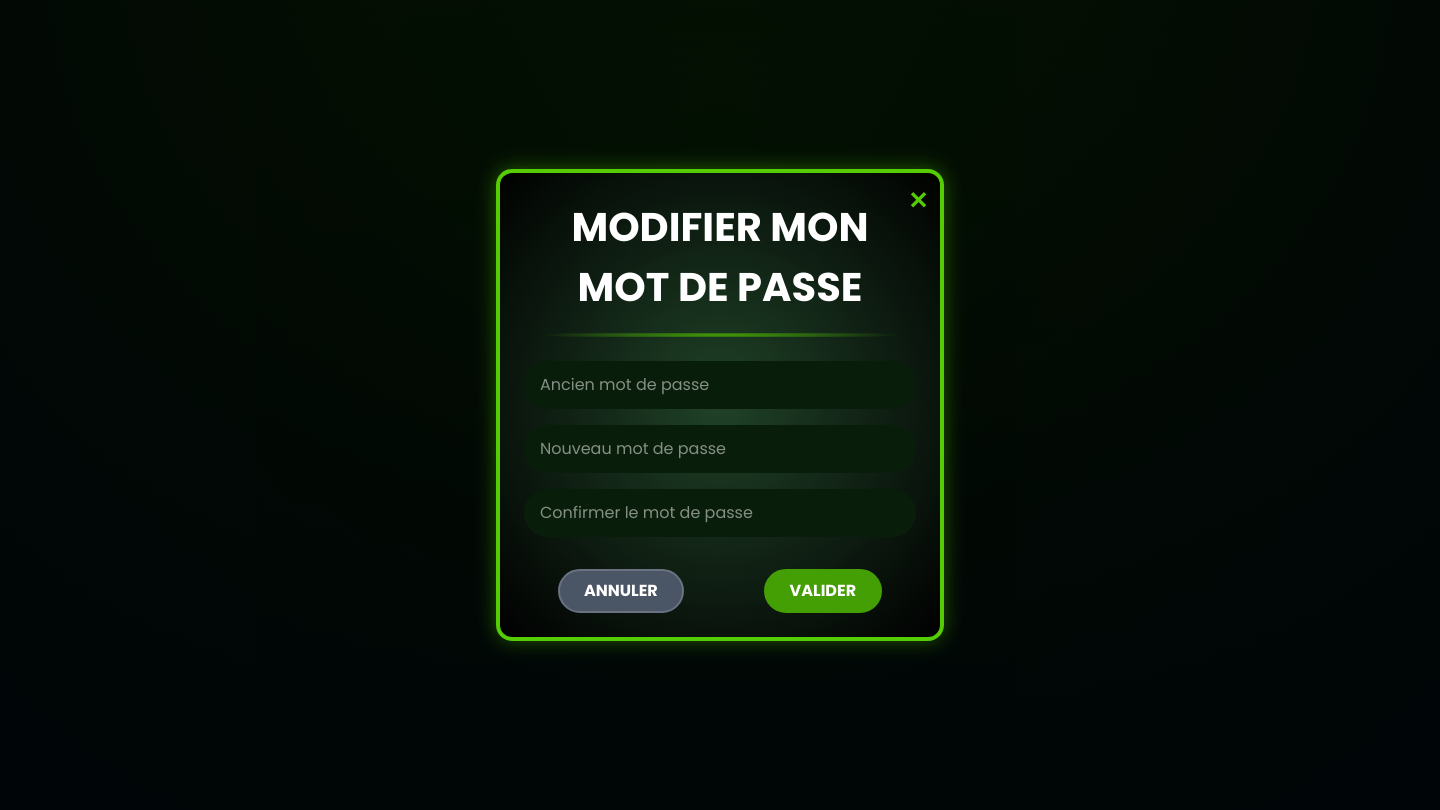
Test: ChangePasswordModal › shows an error when passwords do not match
Fill fields with mismatched passwords
In the password field with placeholder "Ancien mot de passe": (720, 385) [524,361,916,409], type "oldpass"
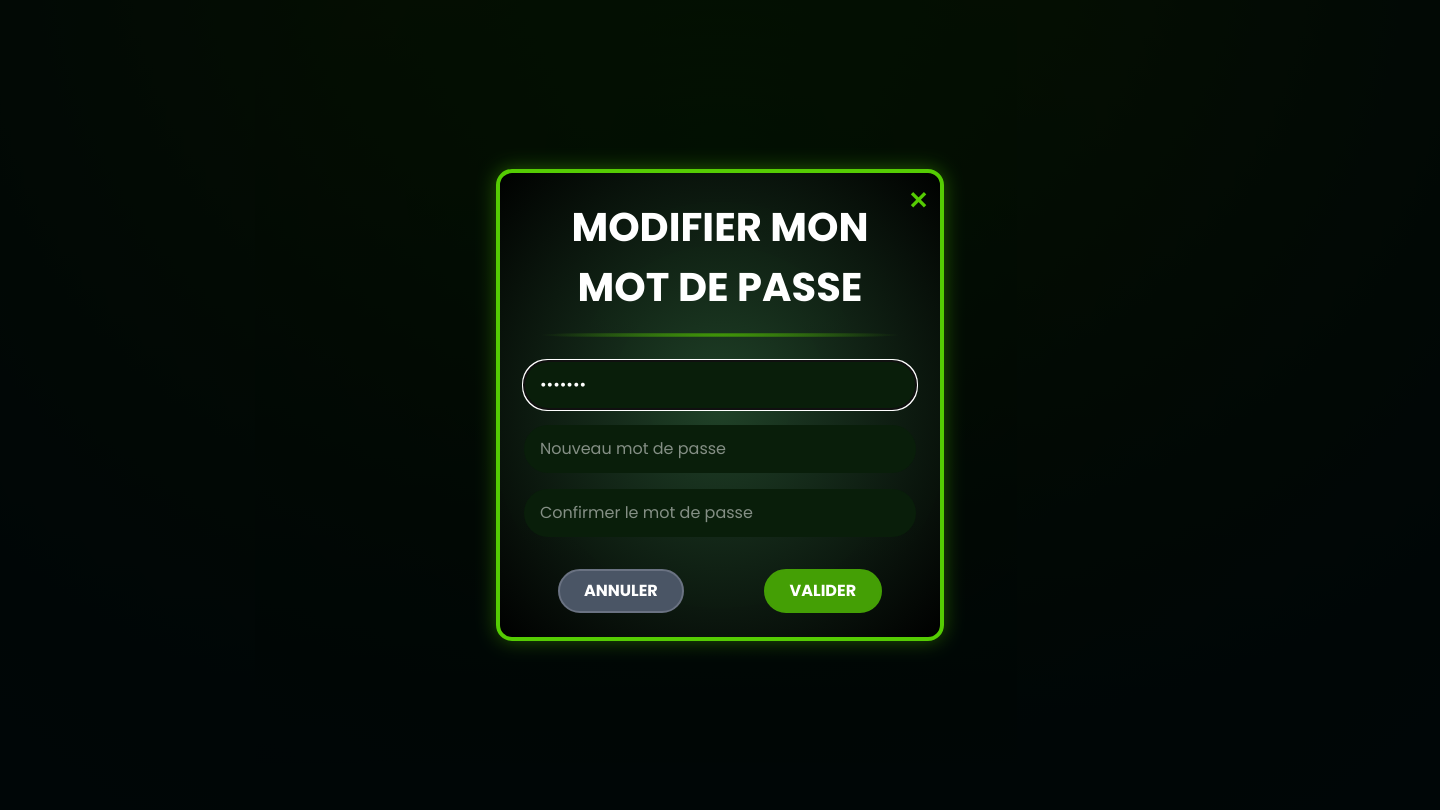
In the password field with placeholder "Nouveau mot de passe": (720, 449) [524,425,916,473], type "newpass1"
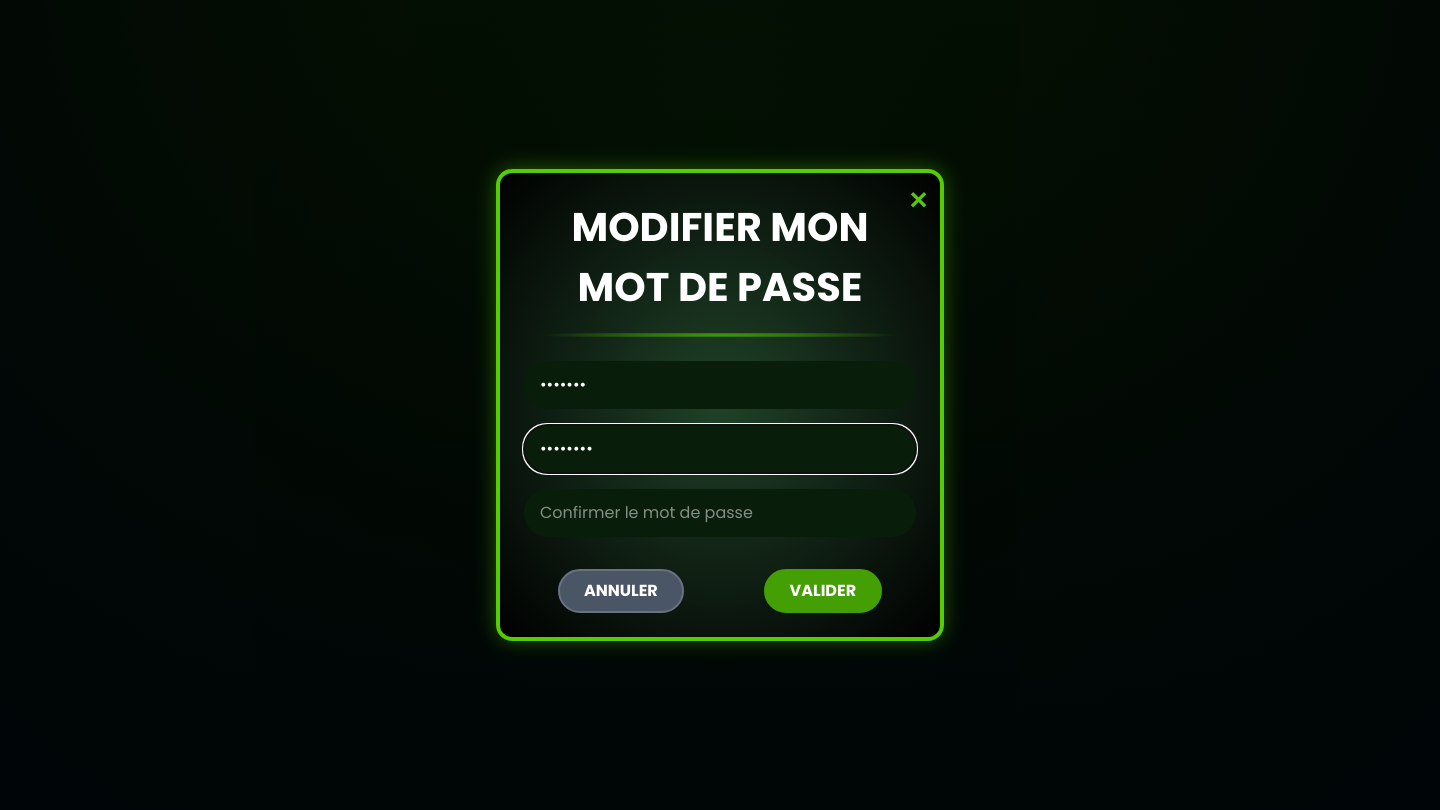
In the password field with placeholder "Confirmer le mot de passe": (720, 513) [524,489,916,537], type "newpass2"
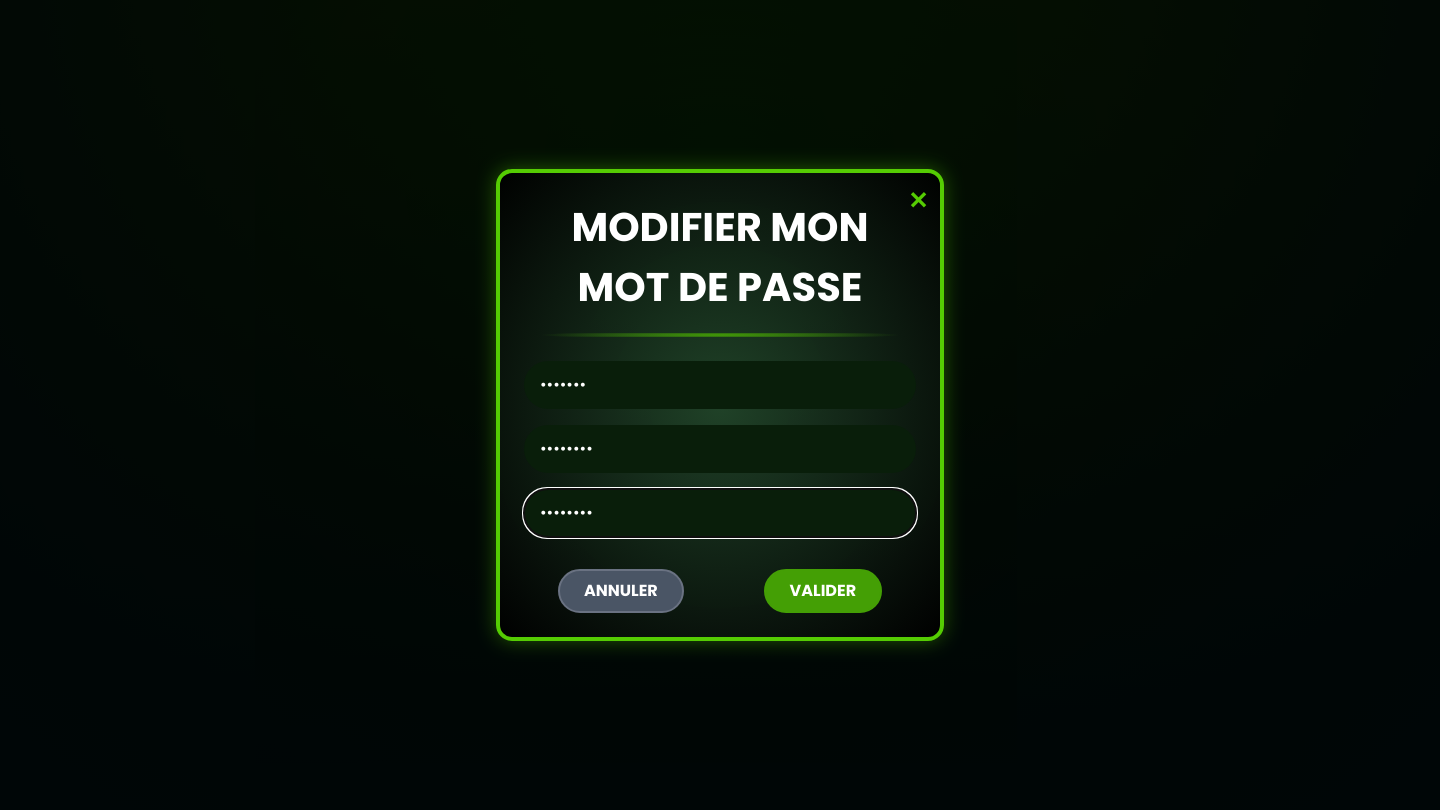
Click the button "Valider": (823, 591) [764,569,882,613]
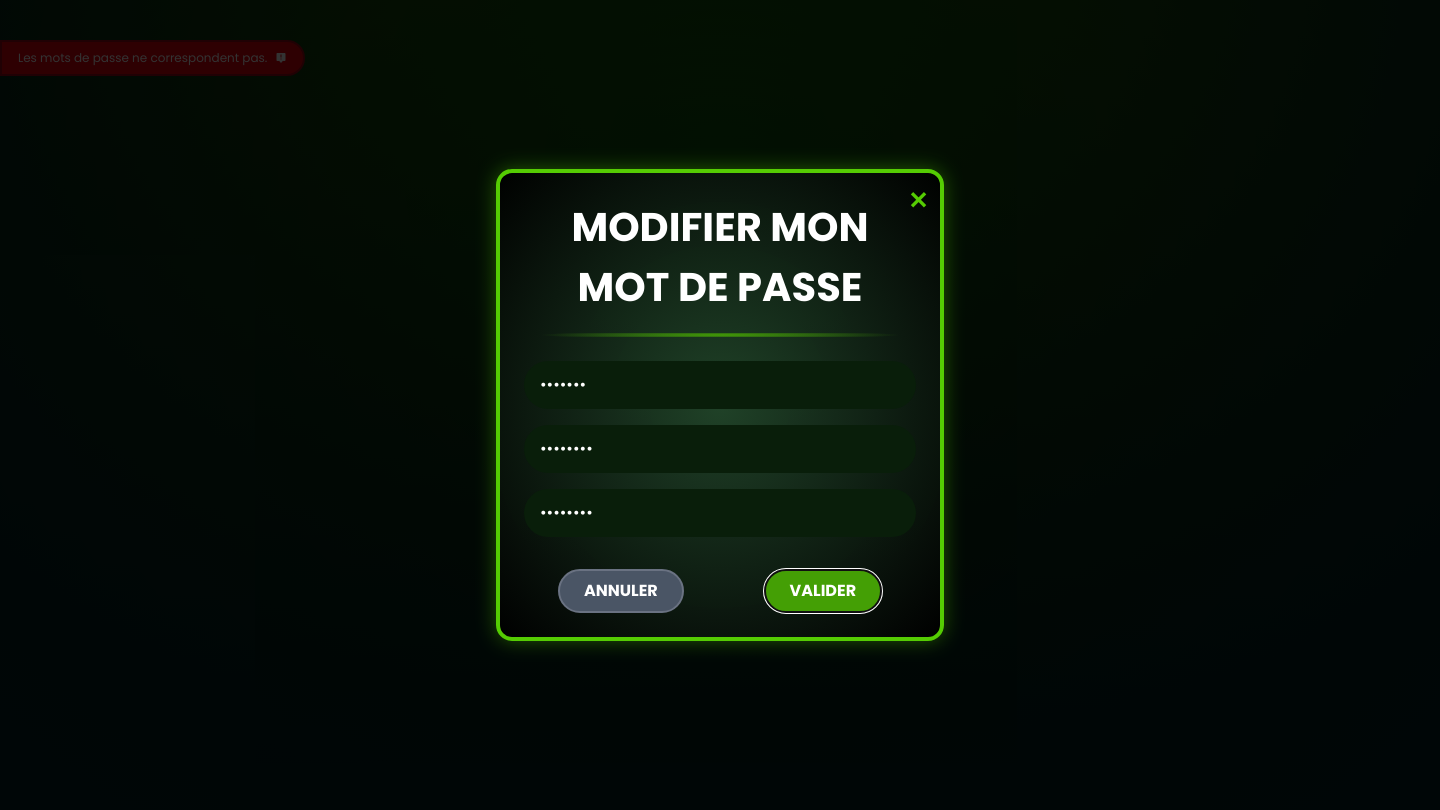
Expected: the text "Les mots de passe ne correspondent pas." is shown, [18,50,267,66]
